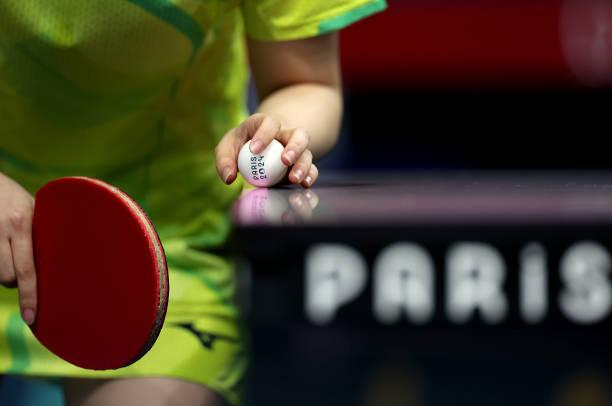ball_pingpong: (237, 138, 291, 188)
